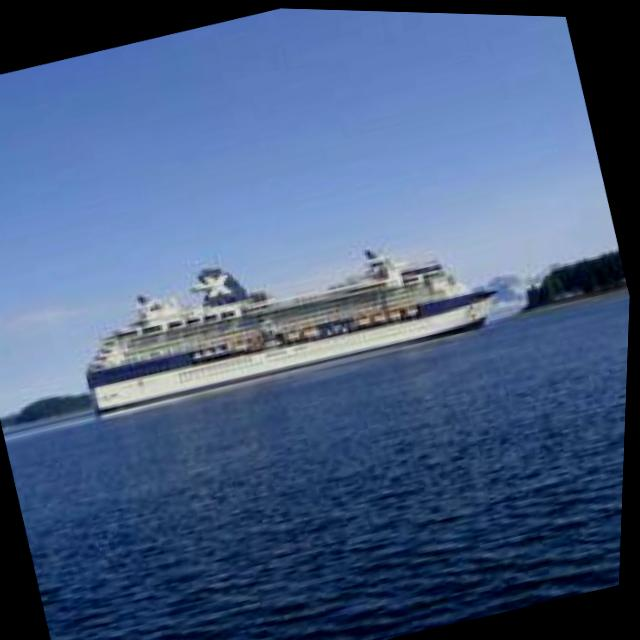ship2: (89, 246, 499, 419)
